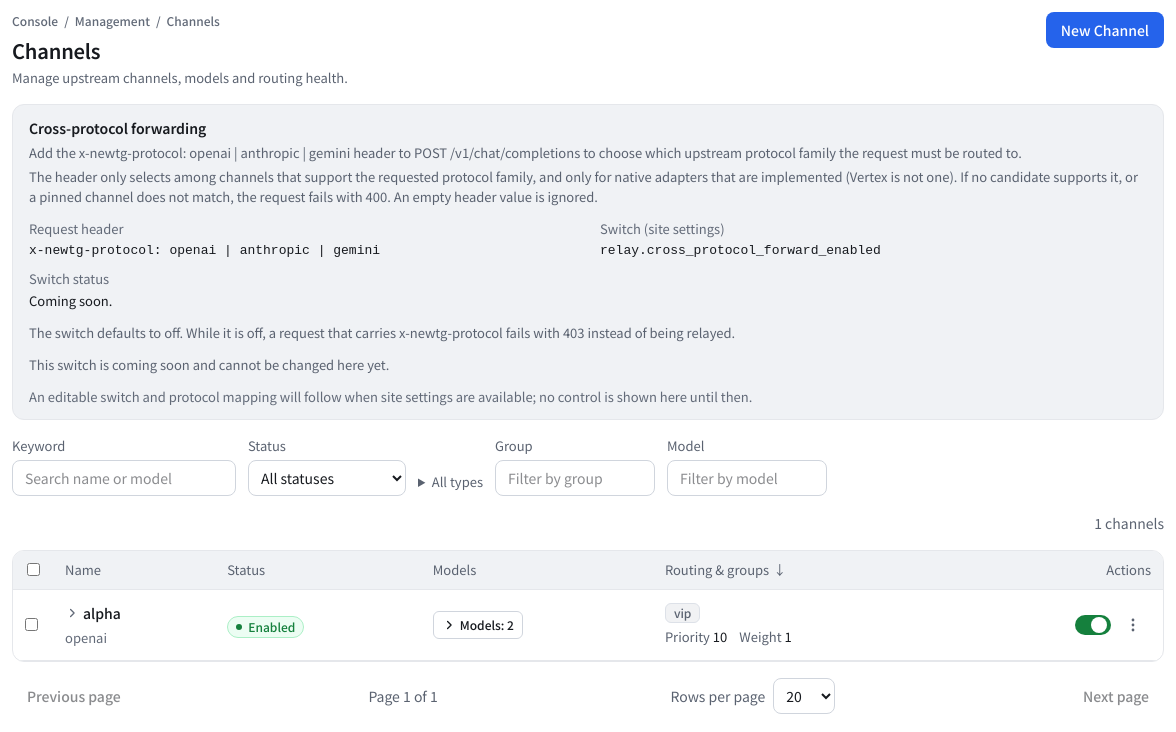
ChannelListPage › debounces the group filter and clears the selection when it applies
This screenshot has width=1176, height=732.
Check: the button "alpha" is shown, box [83,602,121,624]
Click the checkbox named "Select alpha": click(32, 624) [25,618,38,631]
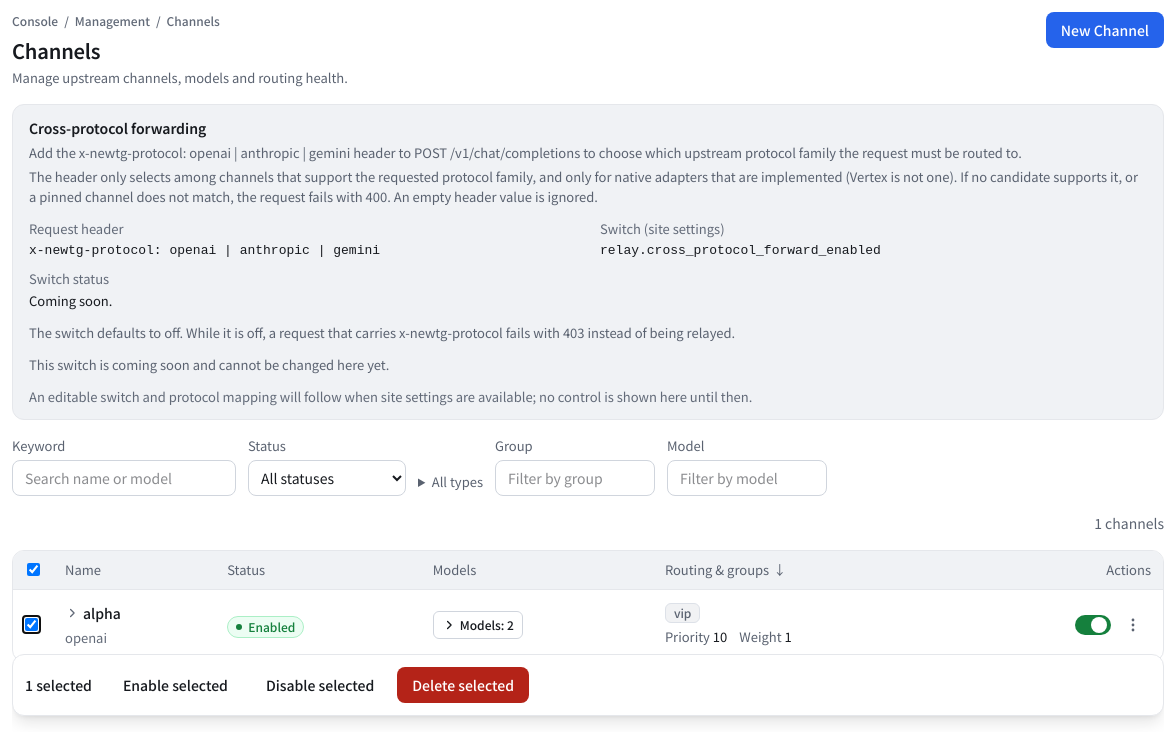
Check: the element with test id "bulk-bar" is shown, box [12,654,1164,716]
In the field labelled "Group": (575, 478) [495,460,655,496], type "vip"
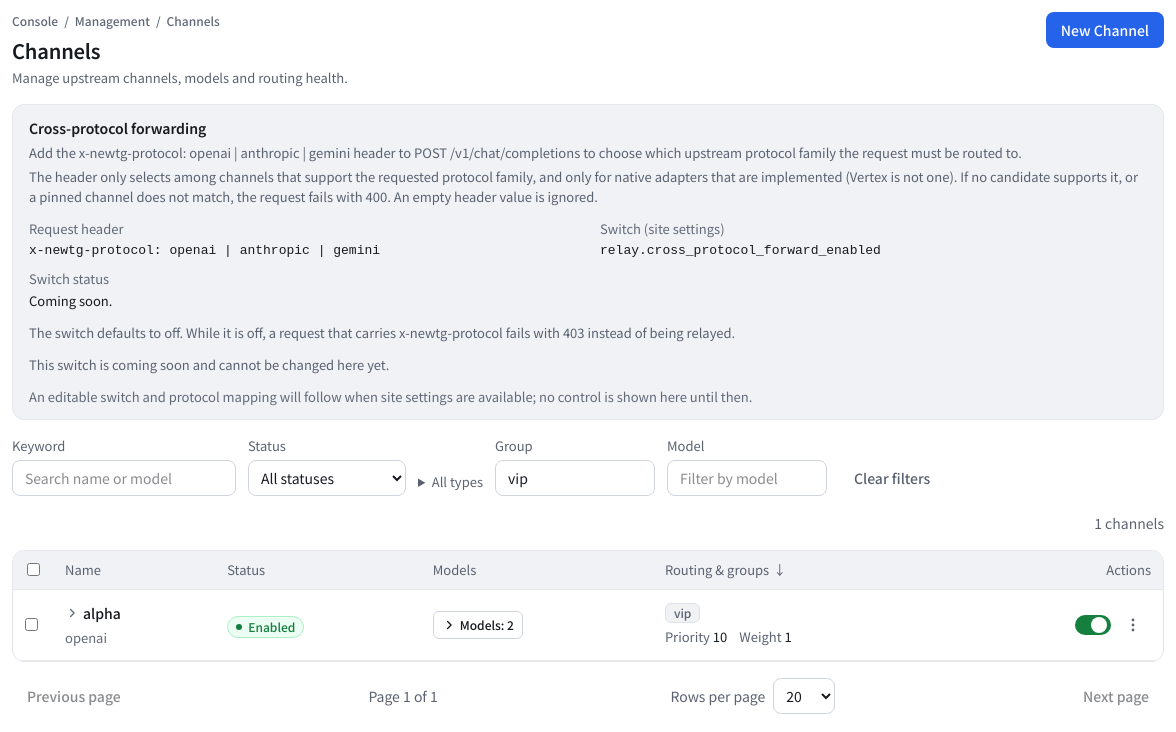
Check: the text "vip" is shown, box [665,603,700,623]
Check: the element with test id "bulk-bar" is gone
